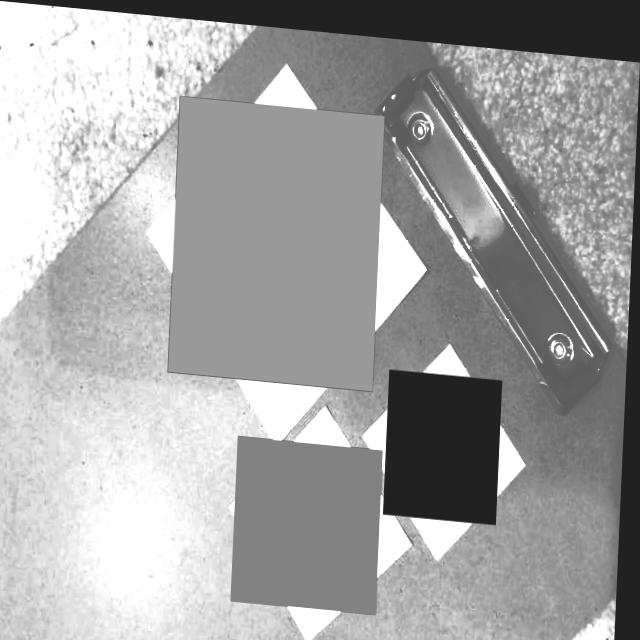qr_code: (172, 92, 385, 382), (236, 430, 387, 605), (387, 361, 505, 513)
